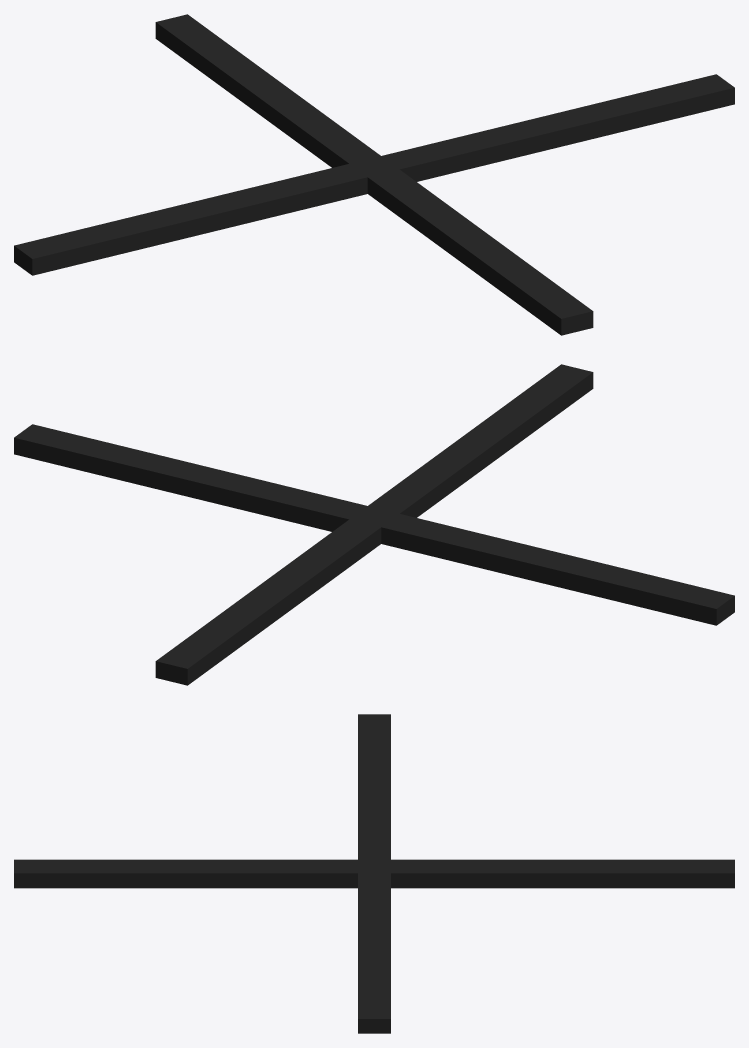
The model's file is ApacheFan.obj.
The picture shows the model from 3 angles, top to bottom: view 1: azimuth 30°, elevation 25°; view 2: azimuth 150°, elevation 25°; view 3: azimuth 270°, elevation 25°; orthographic projection. The views are drawn at different scales.
Bounding box in the file's own units: 4.4 × 0.1 × 4.4.
1 material, 1 textured.
